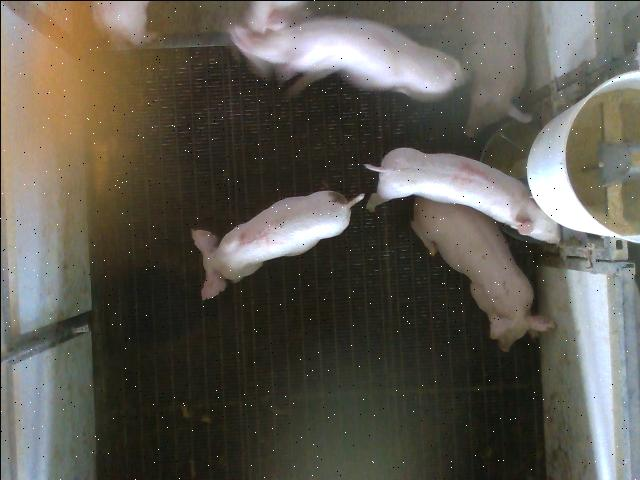pig-4: (366, 147, 559, 243)
pig-5: (191, 190, 364, 298)
